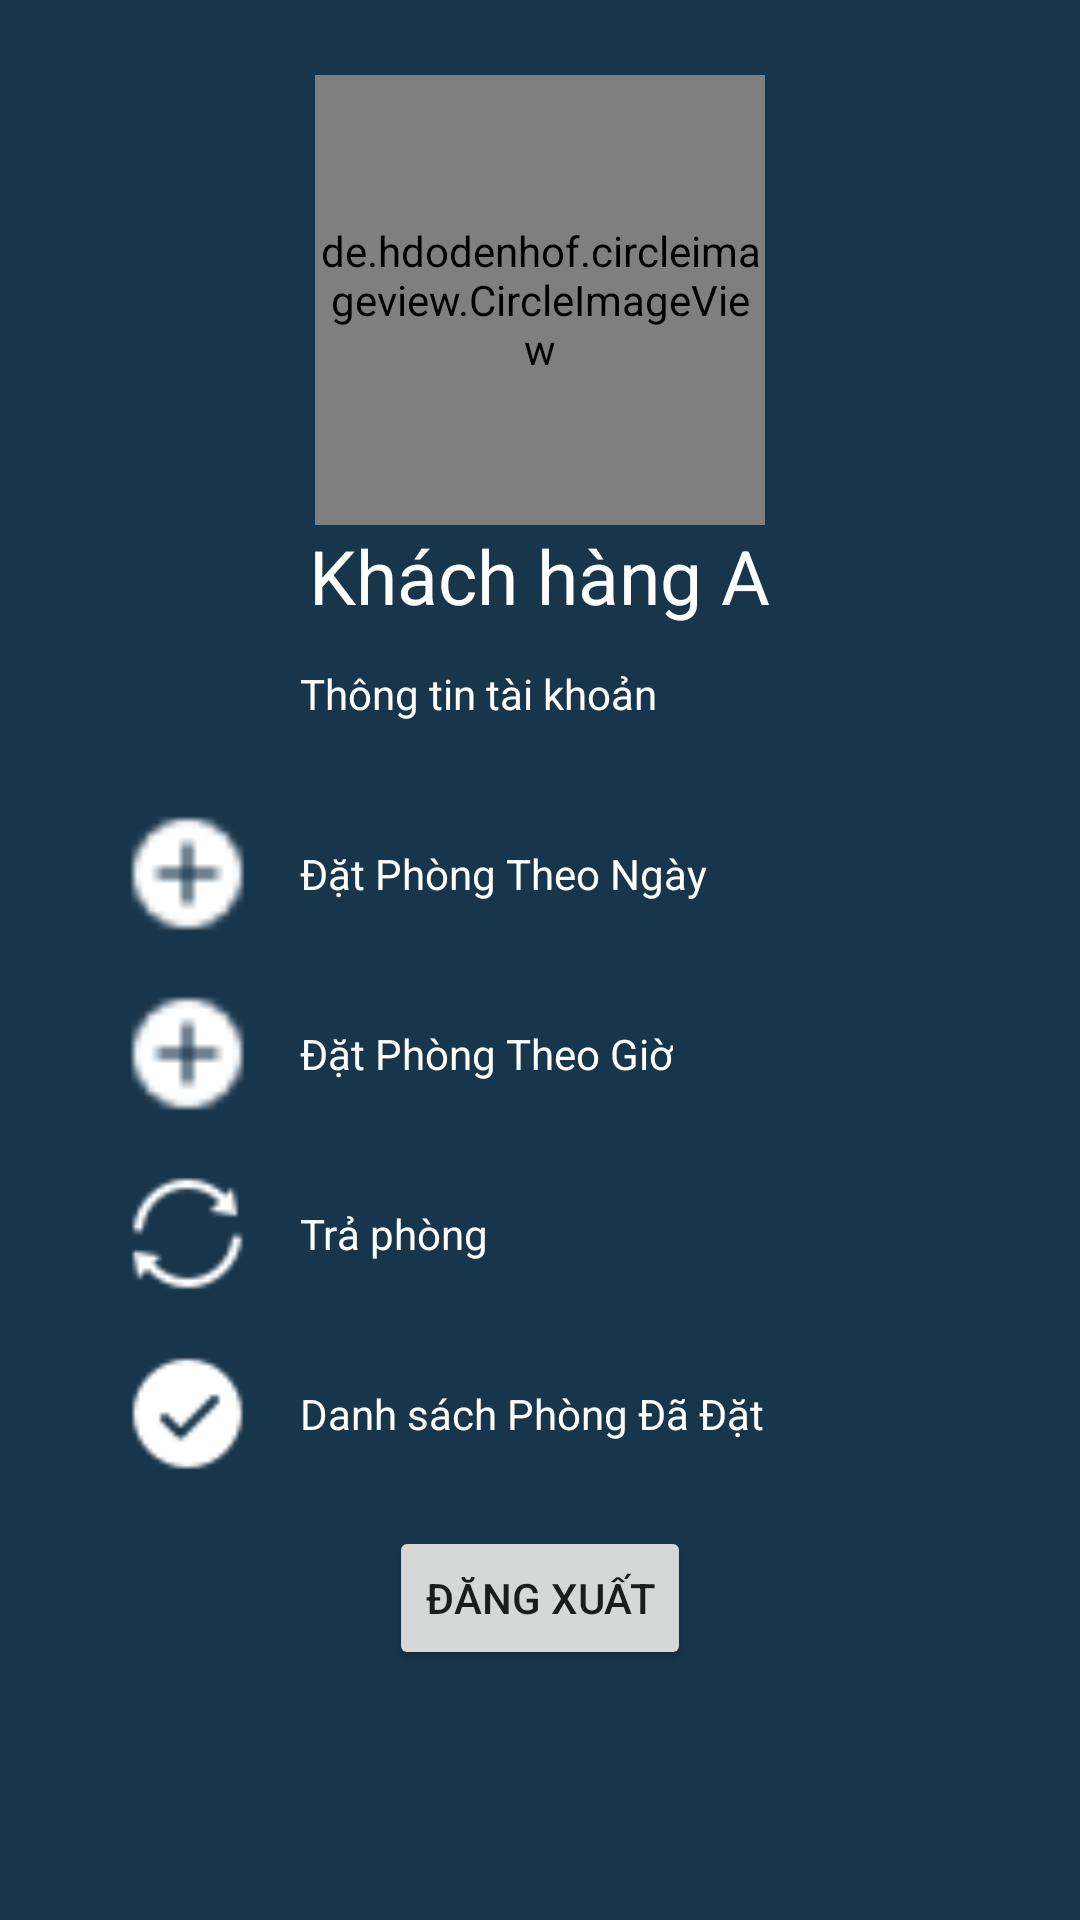

Icon bounding boxes for this 1080w x 1920h phone screenshot, format (x1, y1, x2, y2):
change: (132, 1178, 243, 1289)
them: (131, 817, 244, 930), (131, 997, 244, 1110)
